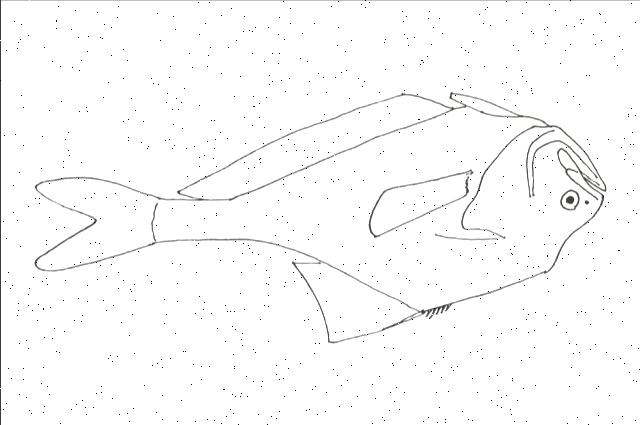Mulut: (546, 140, 614, 214)
Sirip Anal: (166, 81, 448, 210)
Sirip Dada: (363, 166, 469, 240)
Sirip Ekor: (24, 158, 156, 288)
Sirip Perut: (444, 74, 518, 127)
Sirip Punggung: (284, 251, 410, 354)
